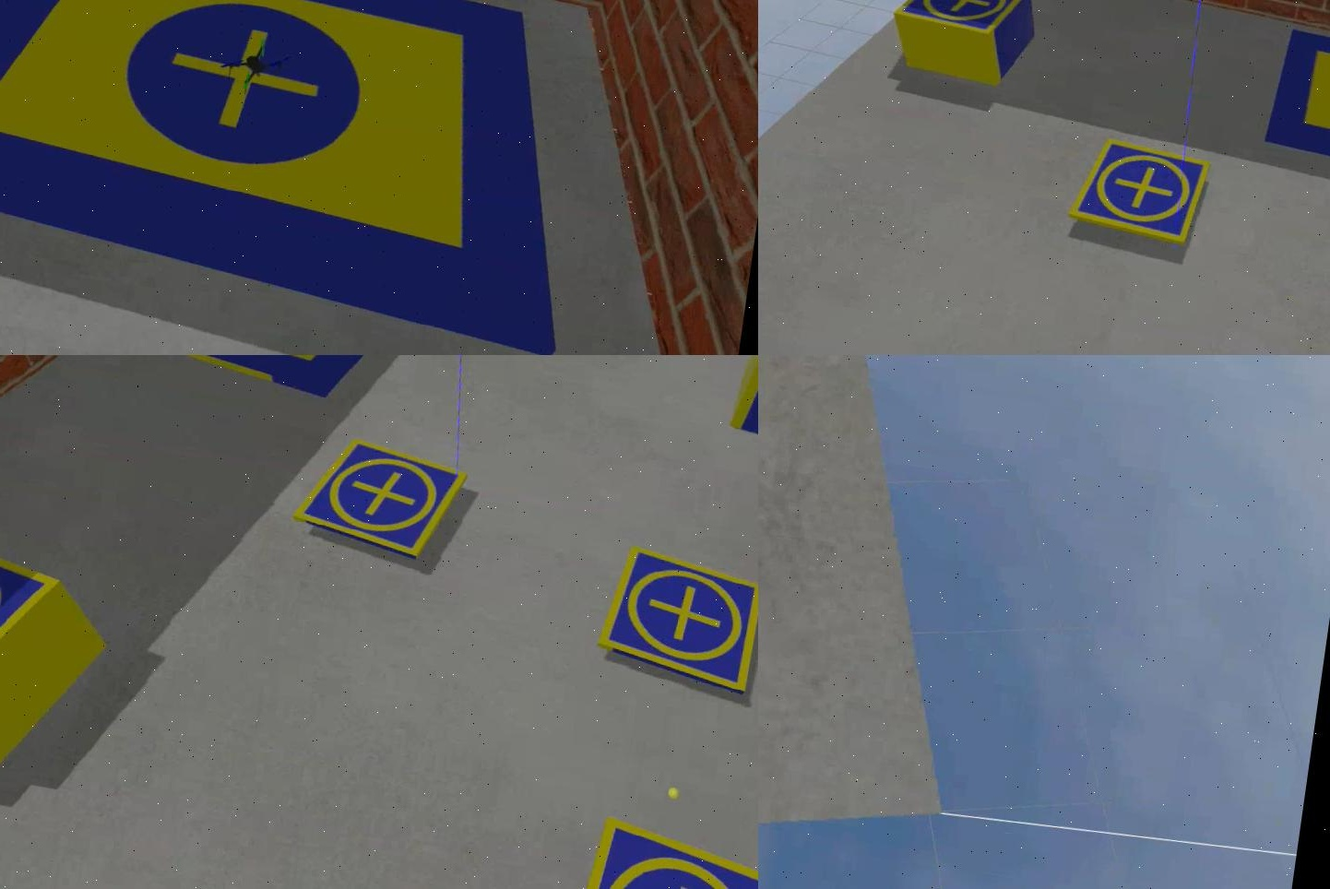large_base: (0, 1, 605, 352), (113, 356, 420, 411), (1258, 31, 1328, 207)
small_base: (593, 542, 756, 695), (288, 433, 467, 571), (546, 812, 756, 889), (1064, 142, 1205, 251), (0, 520, 65, 739), (891, 1, 1029, 46)
